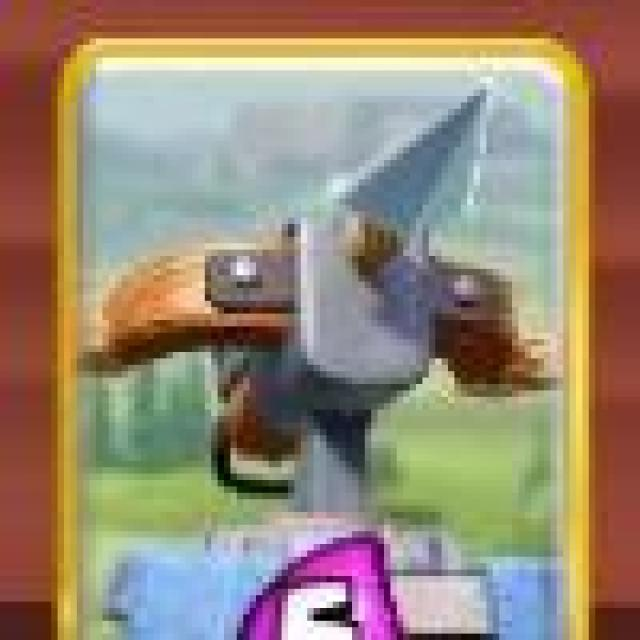X_Bow: (53, 41, 593, 640)
